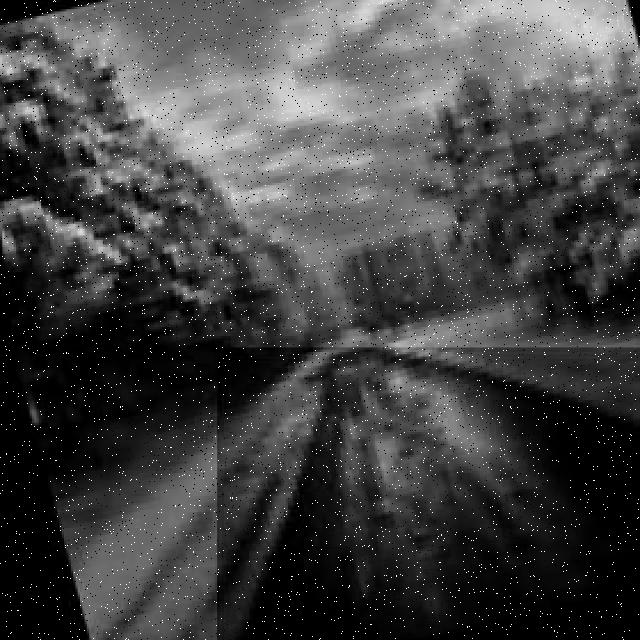ice-road: (224, 349, 640, 640)
